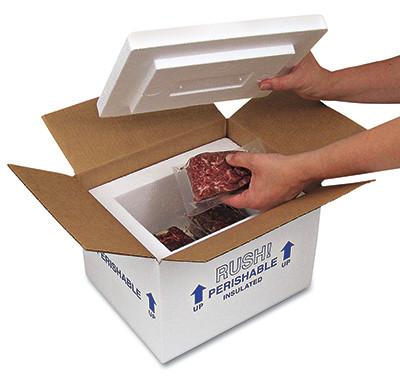Parcel: (90, 137, 309, 260)
